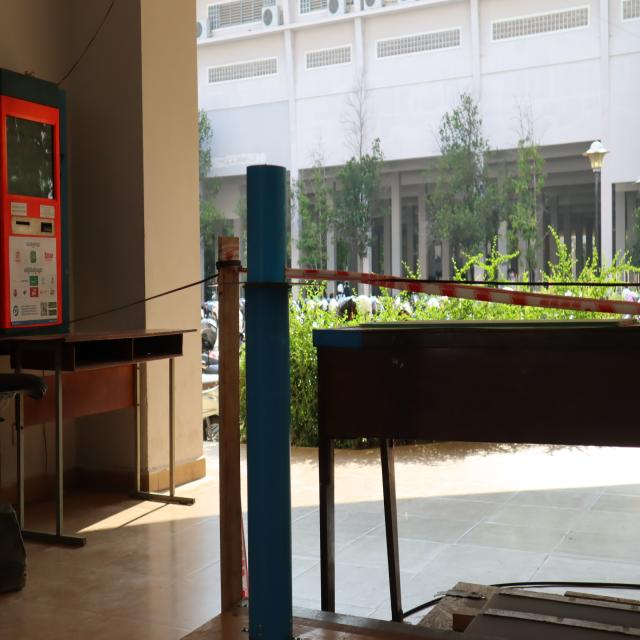pole: (219, 158, 324, 412)
